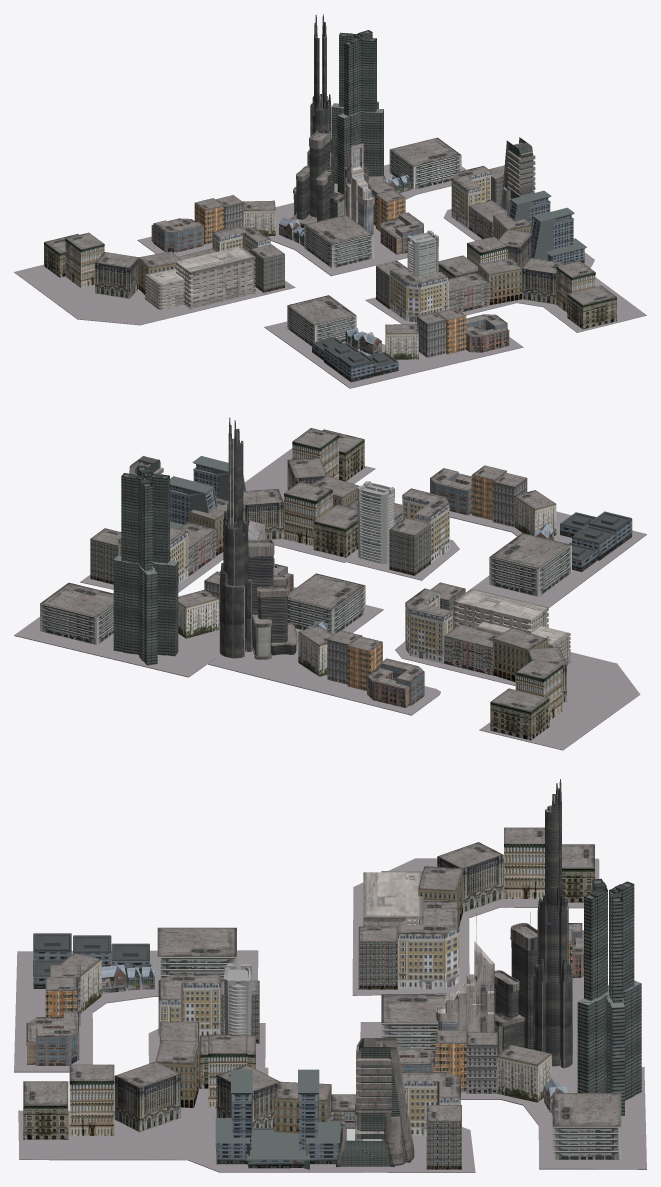
File: cidade.glb
The picture shows the model from 3 angles, top to bottom: view 1: azimuth 30°, elevation 25°; view 2: azimuth 150°, elevation 25°; view 3: azimuth 270°, elevation 25°; orthographic projection. The views are drawn at different scales.
Parts seen in each view (by area): view 1: cidade; view 2: cidade; view 3: cidade.
Part boxes in pixels (x1,y1,x2,y2): cidade: (14, 14, 646, 388); cidade: (14, 417, 646, 750); cidade: (14, 779, 646, 1172).
Size of the model in its own units: 417 by 175 by 356.
3 materials, 3 textured.
